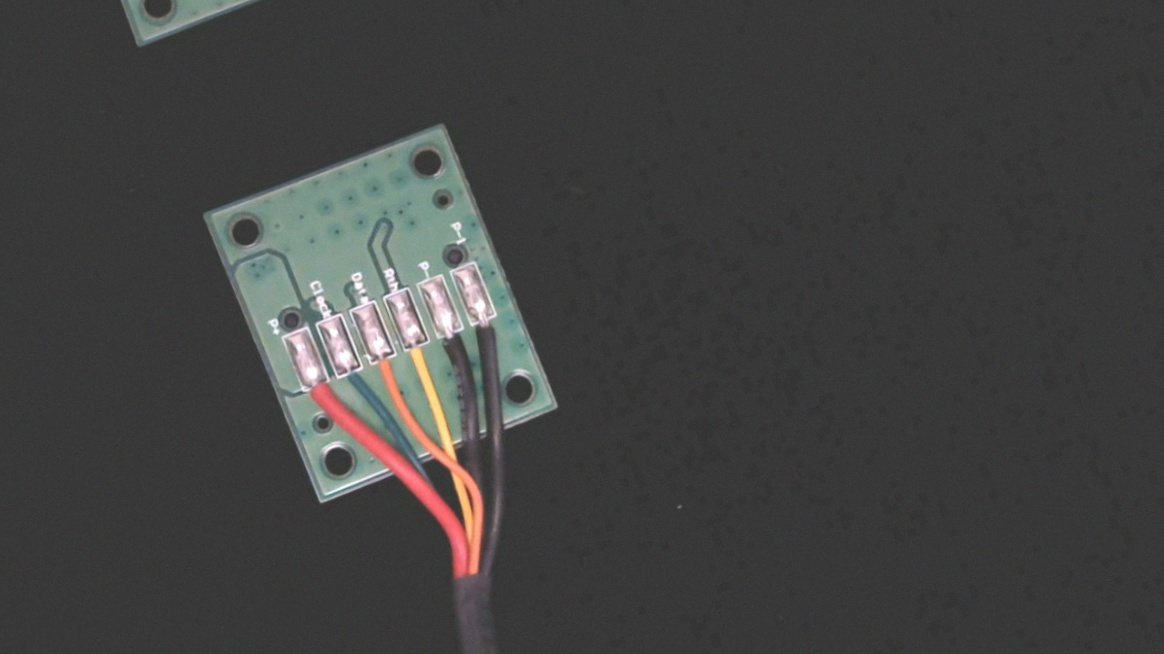Black: (430, 314, 479, 377)
Black1: (464, 301, 513, 365)
Green: (329, 354, 375, 407)
Orange: (362, 341, 407, 397)
Red: (295, 366, 340, 419)
Yellow: (394, 327, 446, 387)
